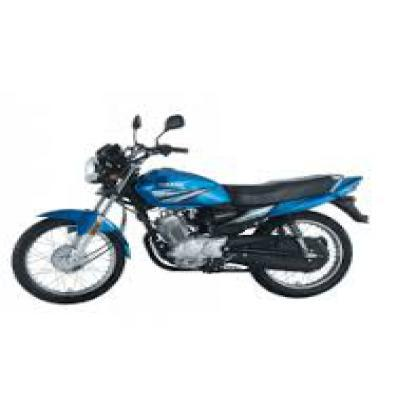Motorcycle: (9, 101, 376, 306)
